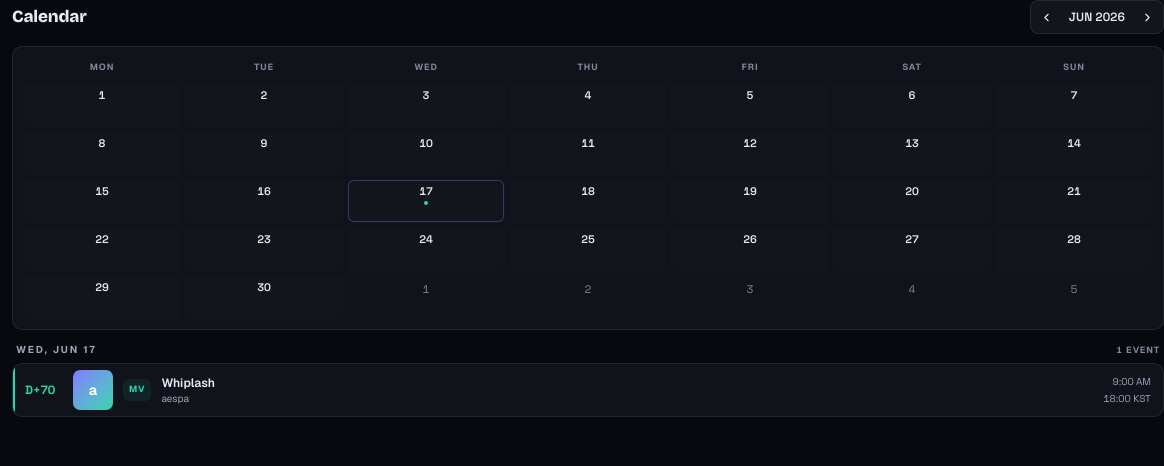
Scenario: CalendarMonth › shows the empty message when selecting a day without events
The width and height of the screenshot is (1164, 466).
What coordinates should you click on to do the following:
click the button named "JUN 2, 0 events"
I would click on:
 (264, 104)
Its box is [185, 82, 343, 126].
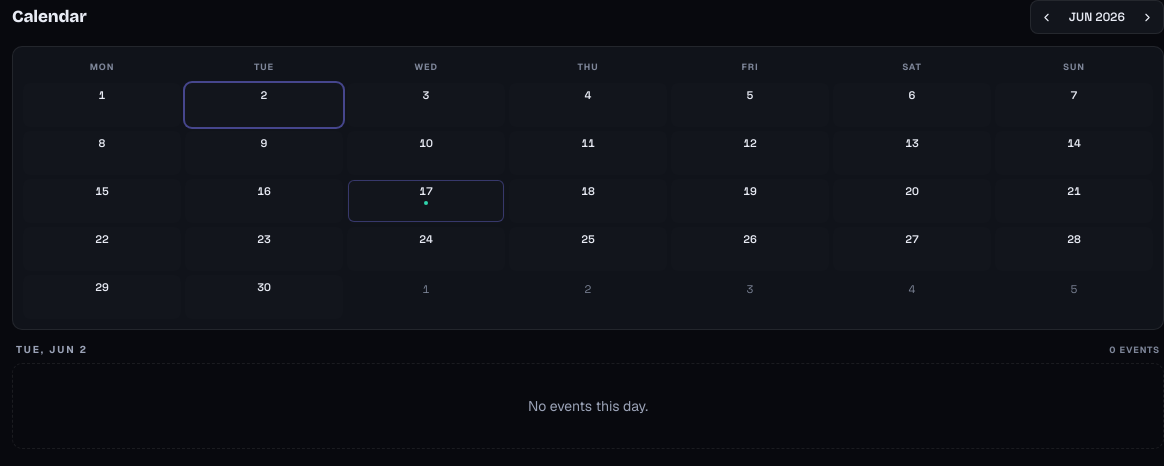
Expected: the text "No events this day." is shown, [12, 363, 1163, 449]
